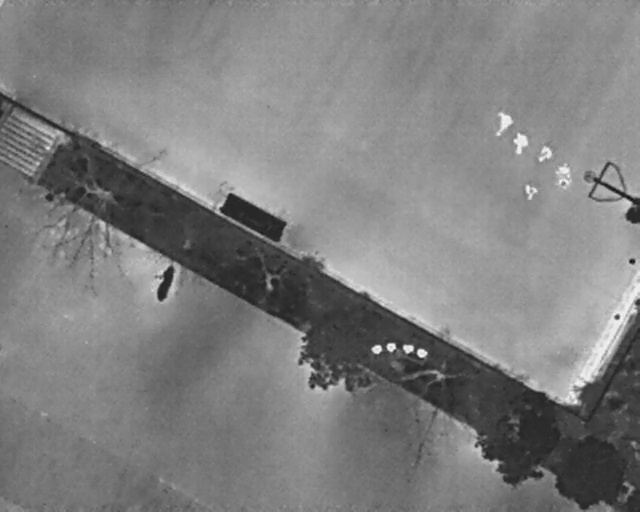Bicycle: (148, 259, 179, 304)
Person: (485, 106, 518, 141), (554, 162, 573, 192), (512, 129, 529, 157), (536, 144, 552, 163), (523, 182, 538, 201)
